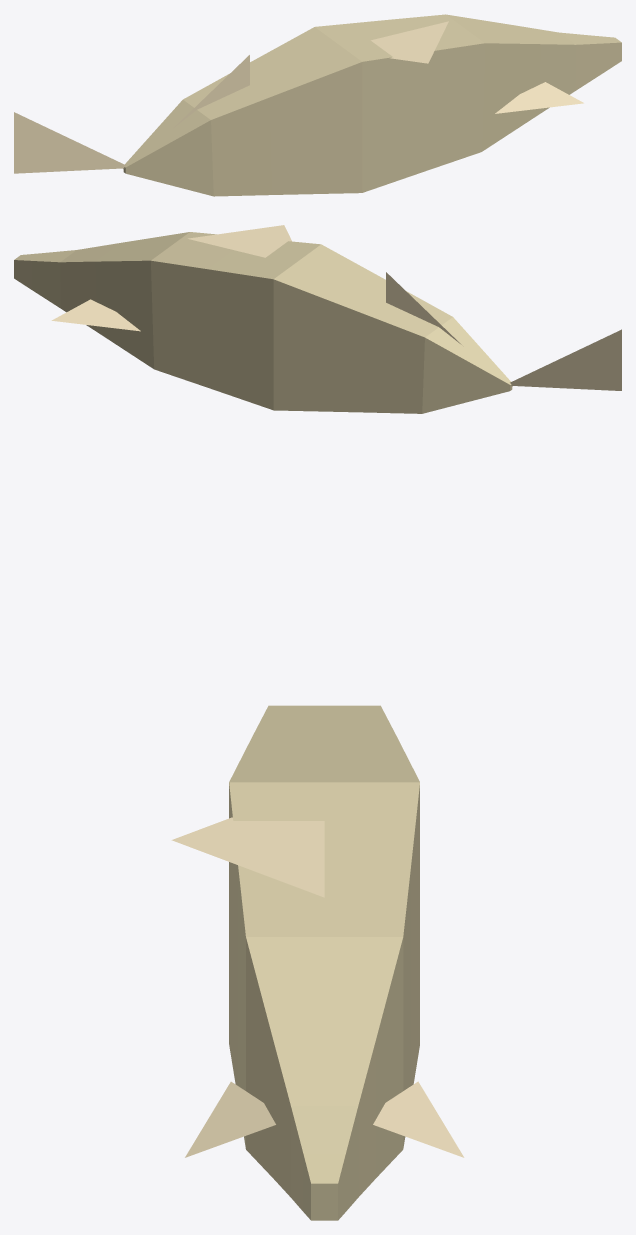
The model's file is fish_slender.glb.
3 renders of one model, top to bottom at view 1: azimuth 30°, elevation 25°; view 2: azimuth 150°, elevation 25°; view 3: azimuth 270°, elevation 25°, orthographic. The views are drawn at different scales.
Parts seen in each view (by area): view 1: SlenderFish, s_tail1, s_dorsal, s_pect-1, s_tail-1; view 2: SlenderFish, s_tail1, s_dorsal, s_pect1, s_tail-1; view 3: SlenderFish, s_dorsal, s_pect1, s_pect-1.
Part boxes in pixels (box(x1,y1,x2,y2)): SlenderFish: box(123, 14, 621, 196); s_tail1: box(14, 112, 125, 173); s_dorsal: box(371, 21, 448, 63); s_pect-1: box(495, 82, 583, 113); s_tail-1: box(173, 55, 249, 128); SlenderFish: box(14, 232, 512, 413); s_tail1: box(510, 329, 621, 390); s_dorsal: box(188, 225, 291, 257); s_pect1: box(51, 299, 140, 331); s_tail-1: box(386, 272, 461, 344); SlenderFish: box(229, 705, 419, 1220); s_dorsal: box(171, 817, 324, 897); s_pect1: box(373, 1081, 464, 1157); s_pect-1: box(185, 1081, 275, 1157).
Bounding box in the file's own units: 0.82 × 0.185 × 0.1722.
